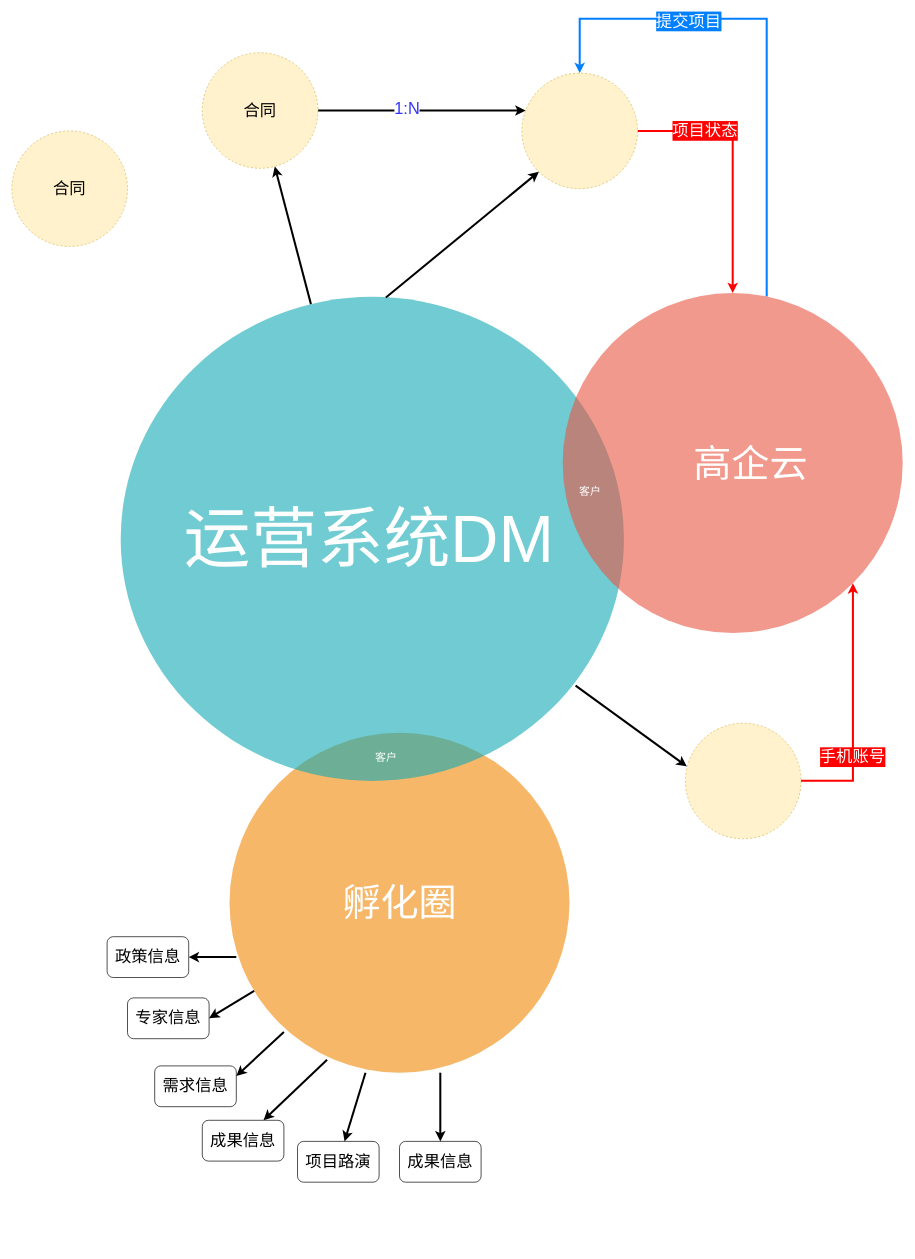
This 915x1259 diagram has some shape labels left out. Here are the shapes that lost their labels. From the top down, the box of each, then its label:
(521, 72, 638, 189): 项目
(685, 722, 801, 839): 用户
